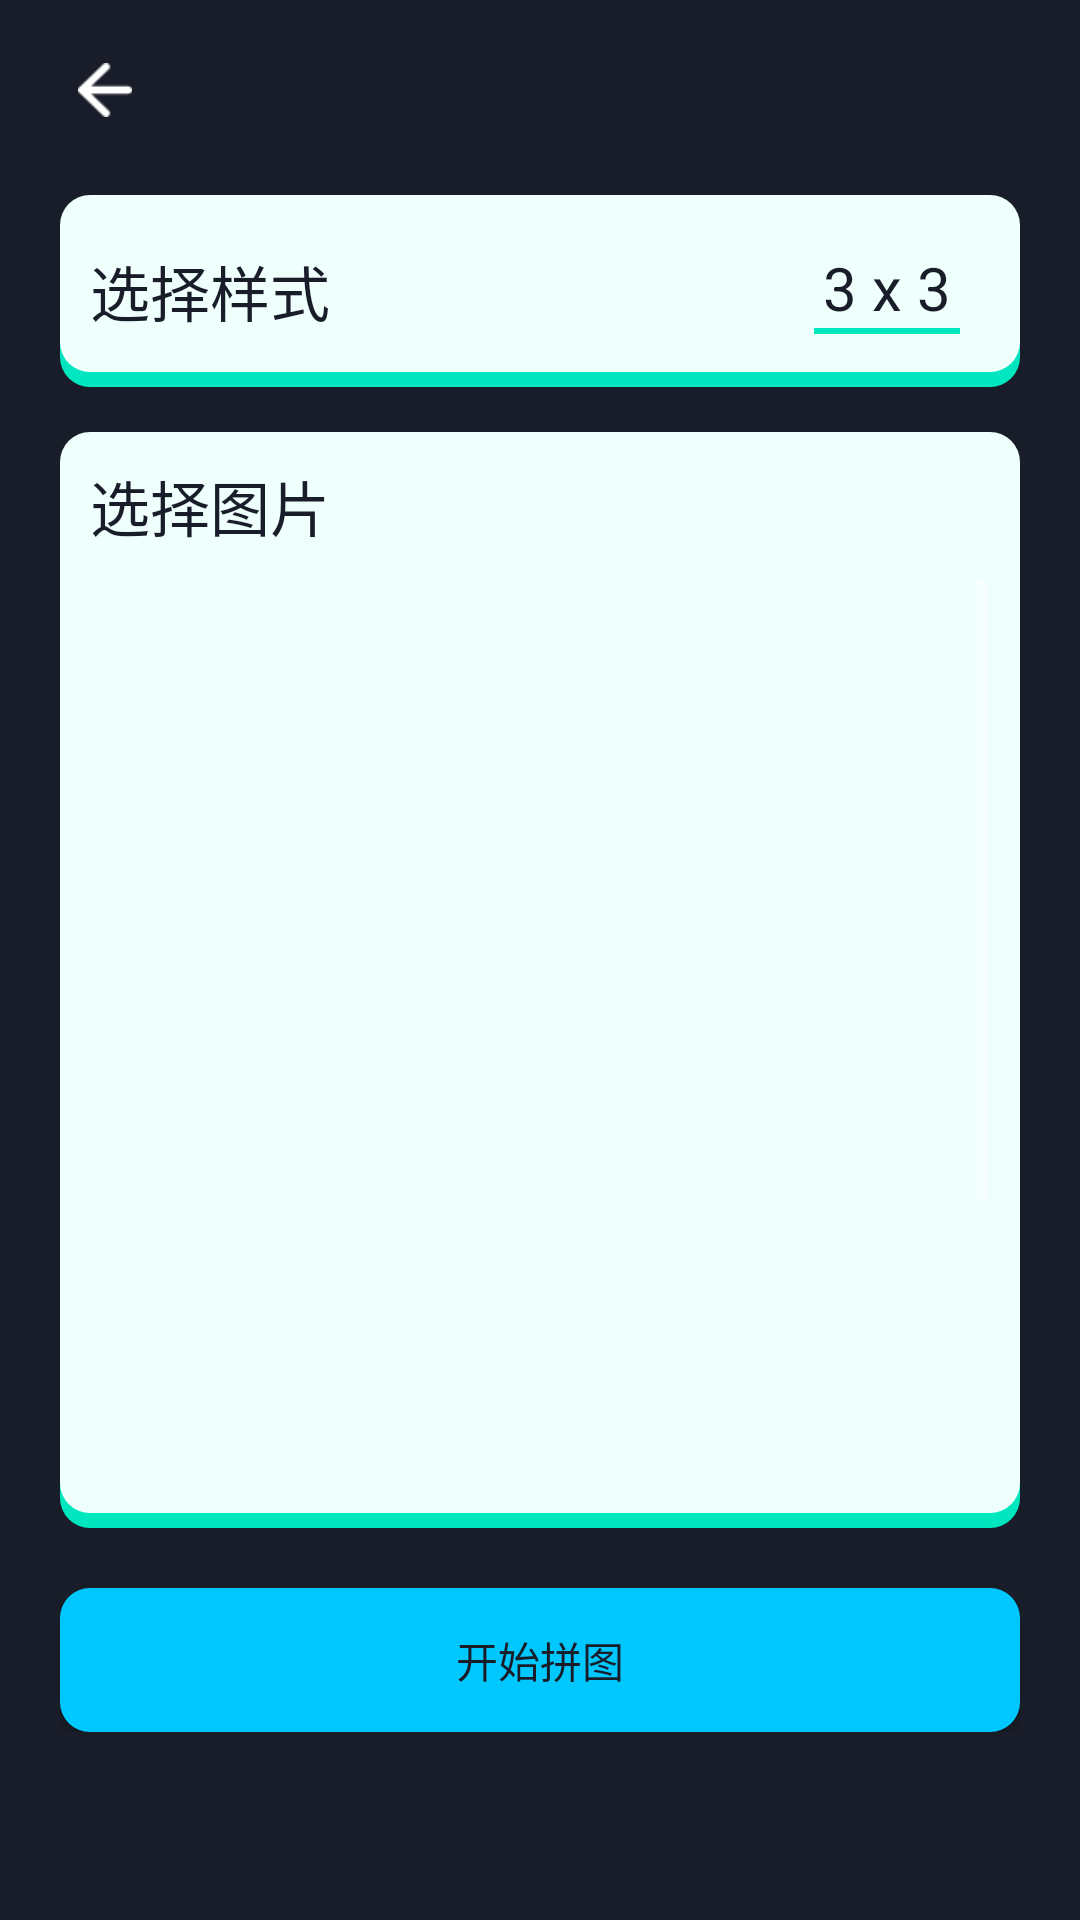

Icons on this 1080w x 1920h Android screen, each with its box as bbox=(x1, y1, x2, y2):
back: bbox=(78, 63, 132, 117)
